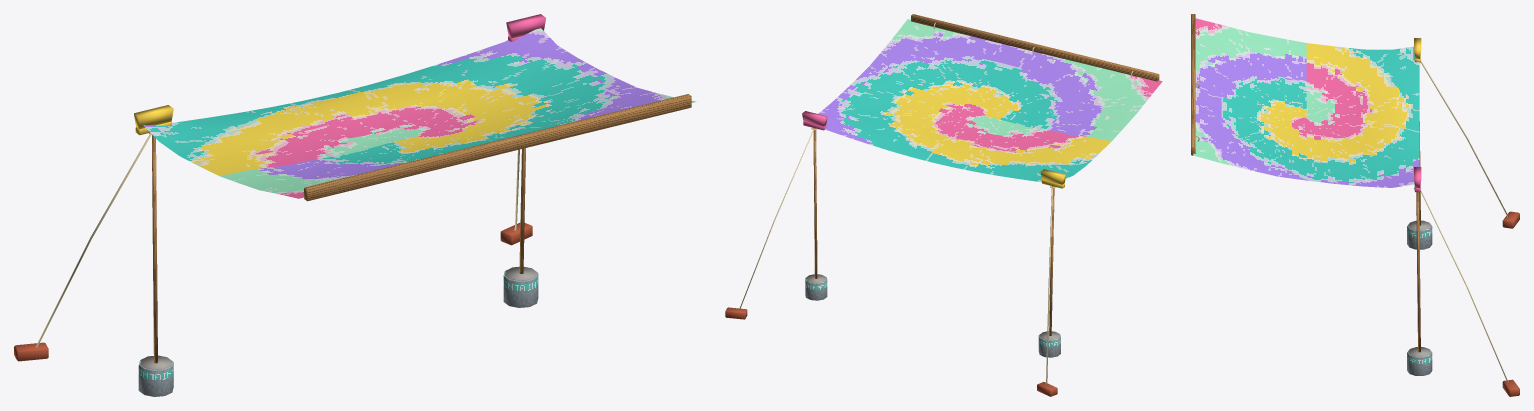
Rendered from s_tarp.glb.
3 views of the same model, side by side, from view 1: azimuth 30°, elevation 25°; view 2: azimuth 150°, elevation 25°; view 3: azimuth 270°, elevation 25° (orthographic). The views are drawn at different scales.
Visible parts, largest first — view 1: s_tarp_mesh; view 2: s_tarp_mesh; view 3: s_tarp_mesh.
Part boxes in pixels (x1=…): s_tarp_mesh: x1=14, y1=14, x2=696, y2=396; s_tarp_mesh: x1=725, y1=14, x2=1162, y2=396; s_tarp_mesh: x1=1191, y1=14, x2=1519, y2=396.
Size of what is drawn, in the model's own units: 4.02 by 2.39 by 3.12.
2 materials, 2 textured.
